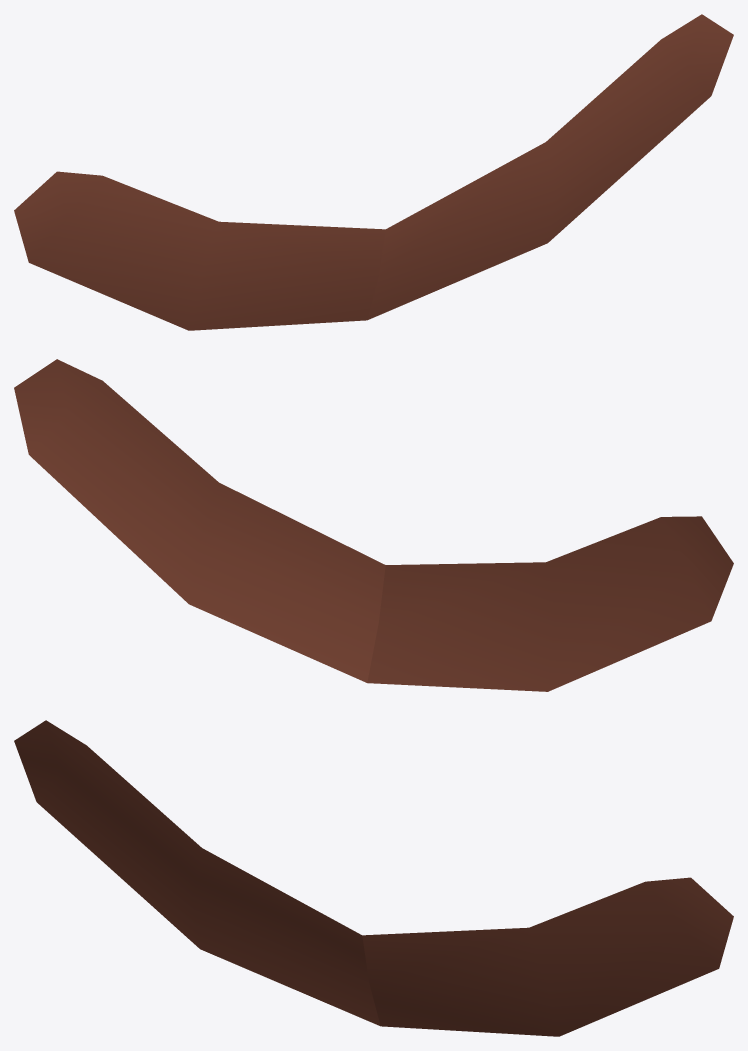
Rendered from Mouth_Brown_1.fbx.
3 renders of one model, top to bottom at view 1: azimuth 30°, elevation 25°; view 2: azimuth 150°, elevation 25°; view 3: azimuth 330°, elevation 25°, orthographic.
Parts seen in each view (by area): view 1: Mouth_Brown_1; view 2: Mouth_Brown_1; view 3: Mouth_Brown_1.
Part boxes in pixels (bbox=[...]): Mouth_Brown_1: bbox=[14, 14, 733, 330]; Mouth_Brown_1: bbox=[14, 359, 733, 691]; Mouth_Brown_1: bbox=[14, 720, 733, 1036].
Size of the model in its own units: 7.29 by 2.29 by 0.3234.
